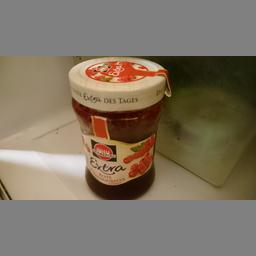jam: (68, 56, 170, 198)
